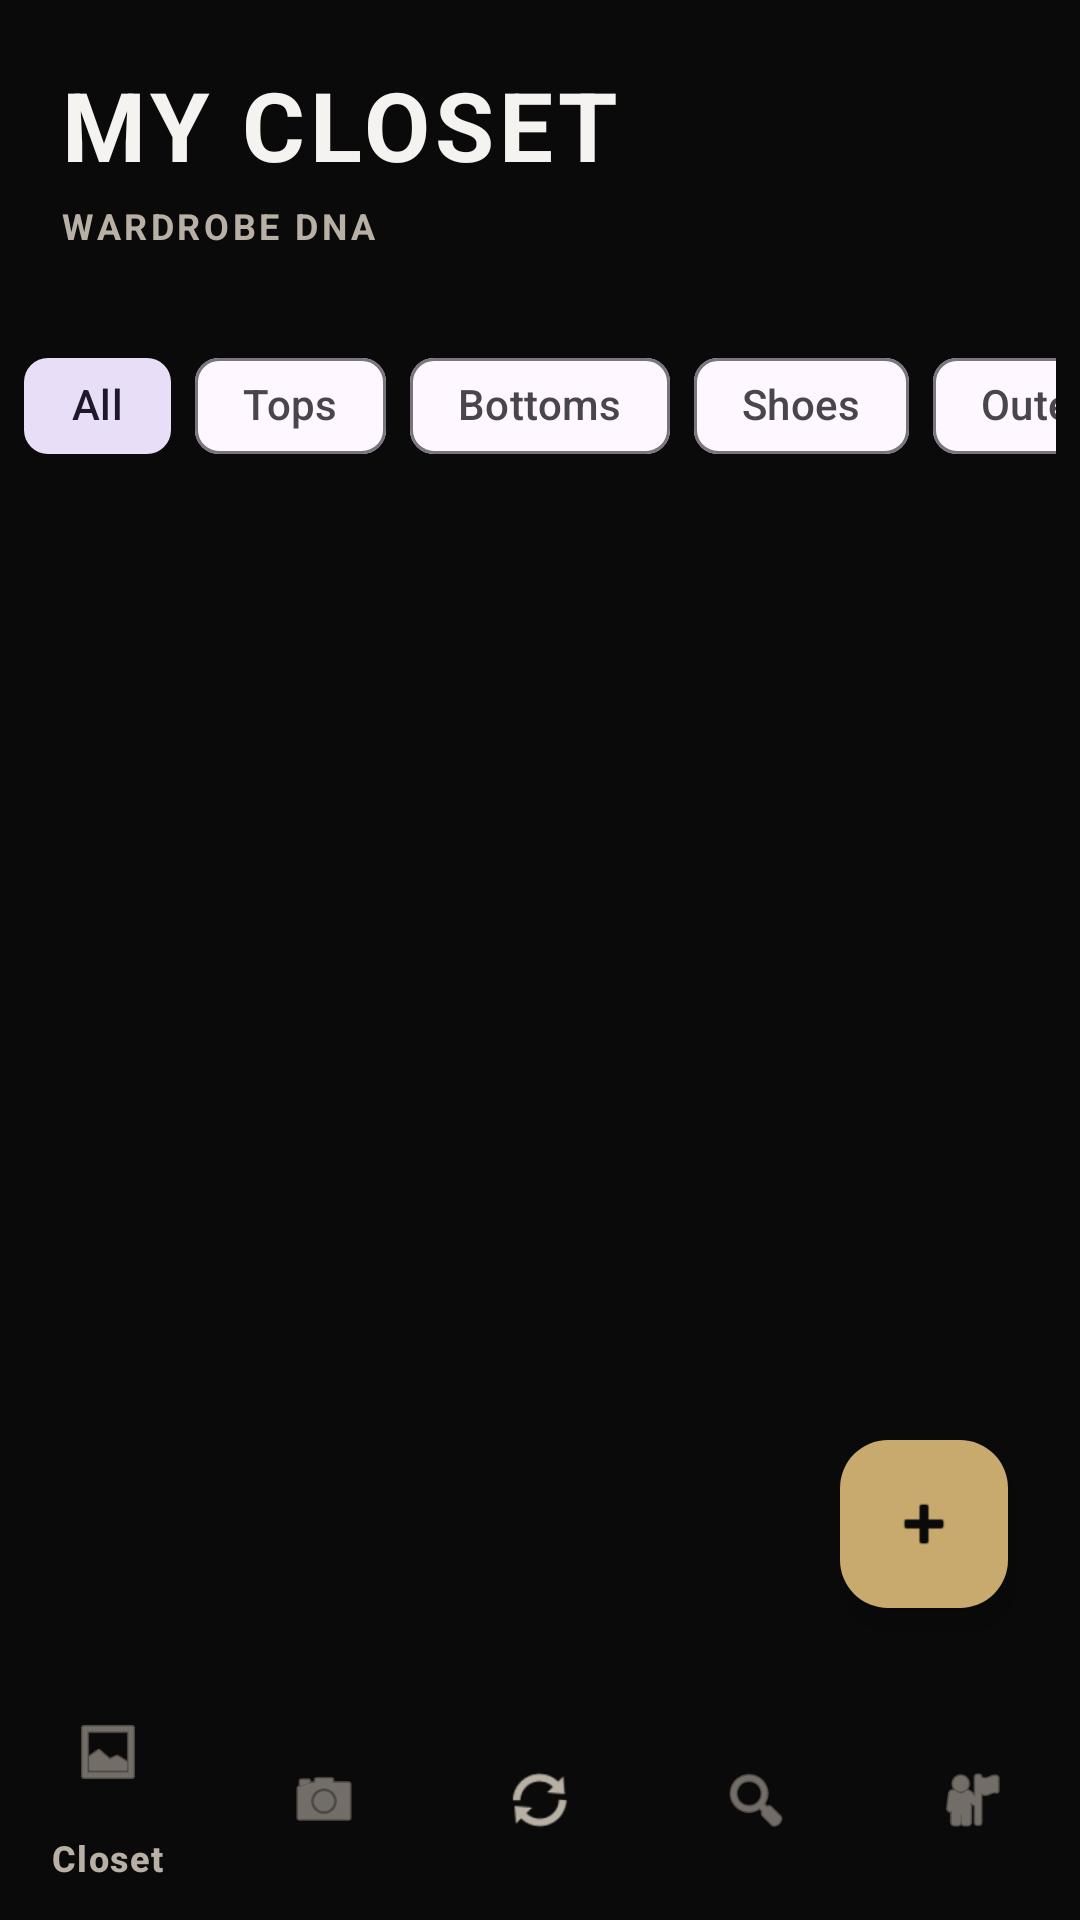

Icons on this 1080×1920 Android screen, each with its box as [x1,y1,x2,y2]:
add: [840,1440,1008,1608]
